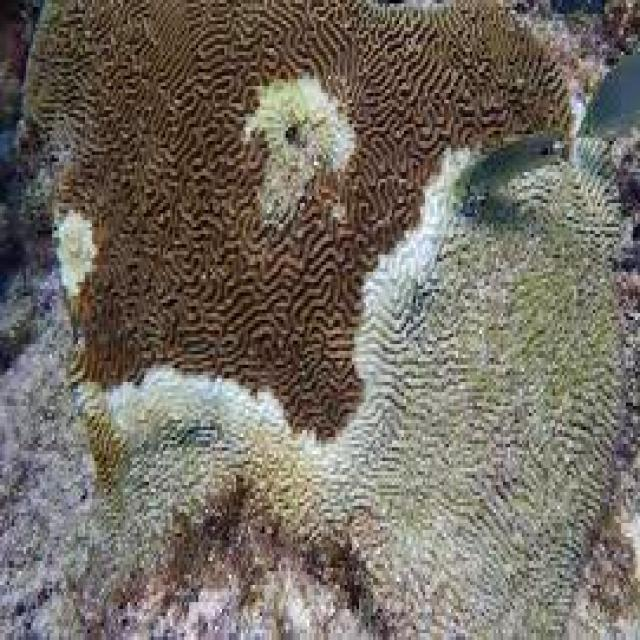Coral: (20, 0, 624, 640)
